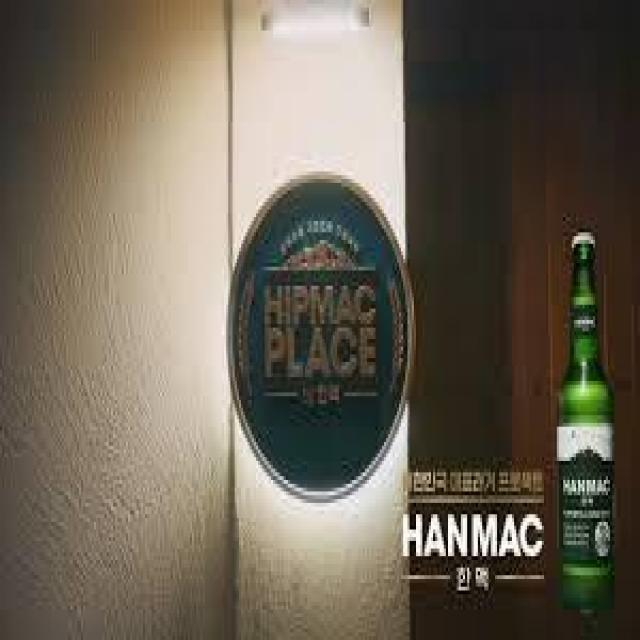beer-bottle: (551, 226, 620, 620)
